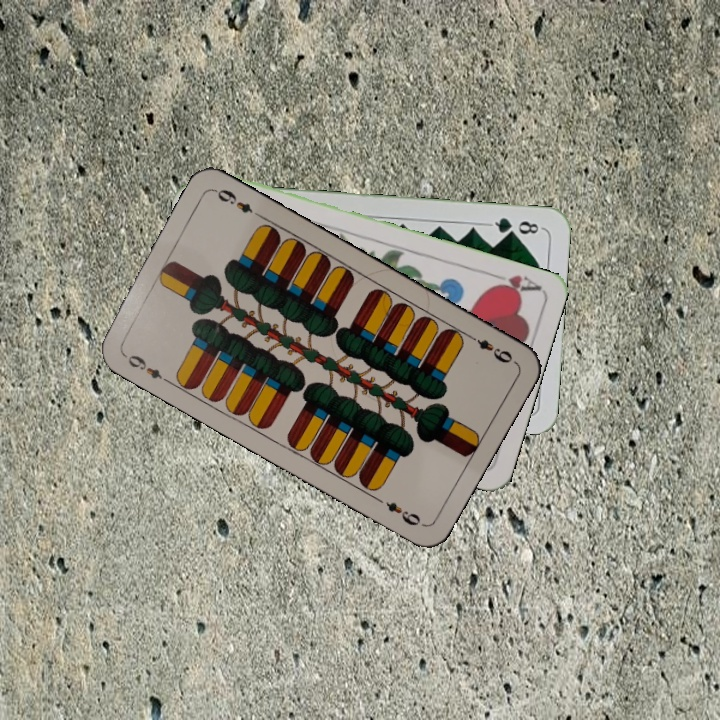E9: (118, 349, 172, 386), (464, 330, 515, 366)
G8: (486, 213, 545, 238)
HA: (484, 268, 543, 298)
